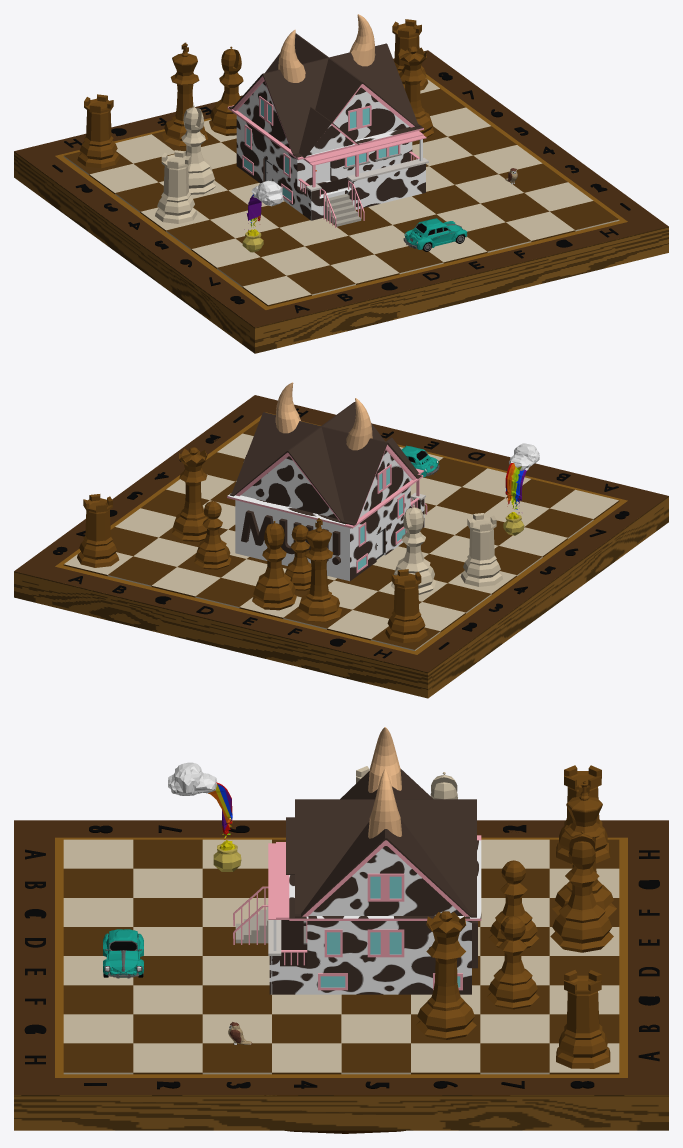
3 views of the same model, one above another, from view 1: azimuth 30°, elevation 25°; view 2: azimuth 150°, elevation 25°; view 3: azimuth 270°, elevation 25° (orthographic). The views are drawn at different scales.
Parts seen in each view (by area): view 1: Cube.002, Cube.1242, VEHICLES_VOLKSWAGEN, OBJRANDOM_RAINBOW; view 2: Cube.002, Cube.1242, OBJRANDOM_RAINBOW, VEHICLES_VOLKSWAGEN; view 3: Cube.002, Cube.1242, OBJRANDOM_RAINBOW, VEHICLES_VOLKSWAGEN.
Part boxes in pixels (bbox=[...]): Cube.002: bbox=[14, 19, 668, 353]; Cube.1242: bbox=[227, 14, 428, 227]; VEHICLES_VOLKSWAGEN: bbox=[403, 218, 467, 251]; OBJRANDOM_RAINBOW: bbox=[242, 180, 283, 252]; Cube.002: bbox=[14, 395, 668, 698]; Cube.1242: bbox=[227, 382, 427, 581]; OBJRANDOM_RAINBOW: bbox=[503, 443, 539, 535]; VEHICLES_VOLKSWAGEN: bbox=[401, 445, 439, 477]; Cube.002: bbox=[14, 765, 668, 1130]; Cube.1242: bbox=[233, 727, 481, 994]; OBJRANDOM_RAINBOW: bbox=[168, 762, 241, 871]; VEHICLES_VOLKSWAGEN: bbox=[103, 929, 143, 978].
Size of the model in its own units: 3981 by 1810 by 4012.
45 materials, 2 textured.
